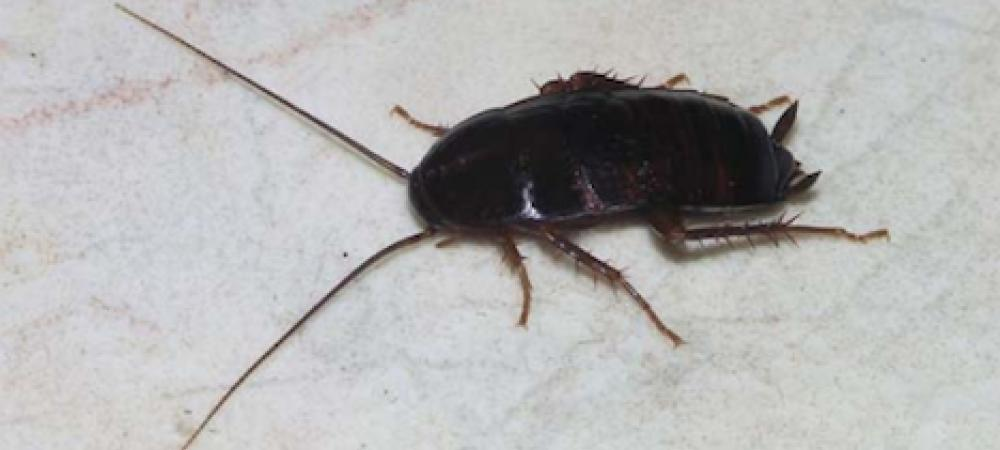cockroach: (400, 70, 816, 260)
